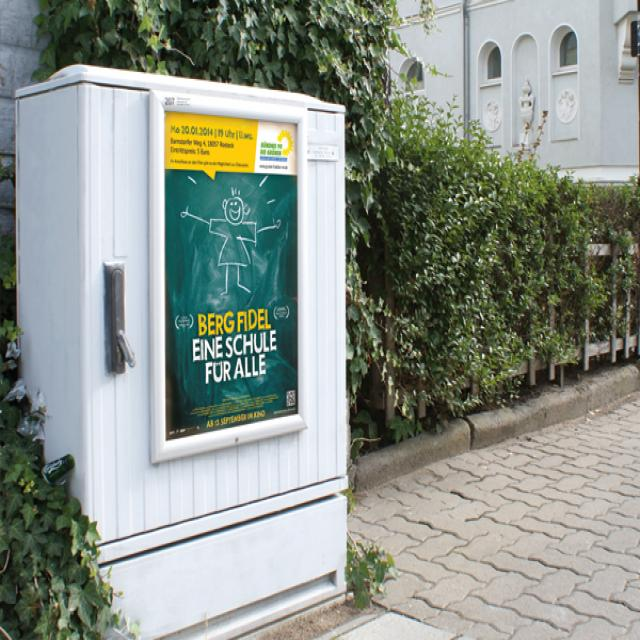Werbetafel frei: (143, 87, 314, 475)
